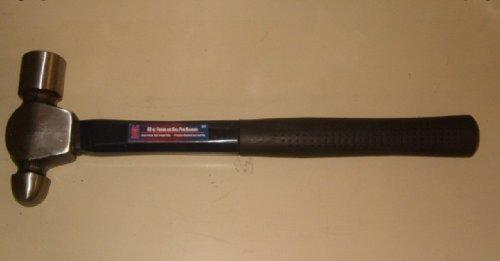hammer: (0, 48, 482, 209)
